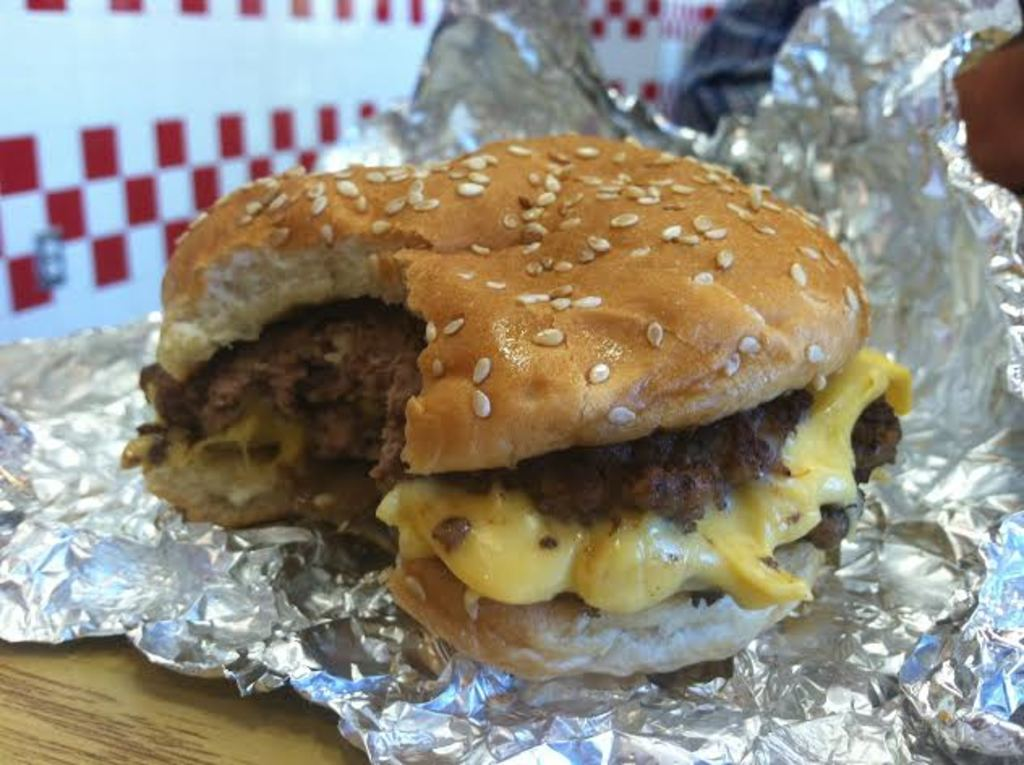Hamburger: (119, 134, 907, 680)
